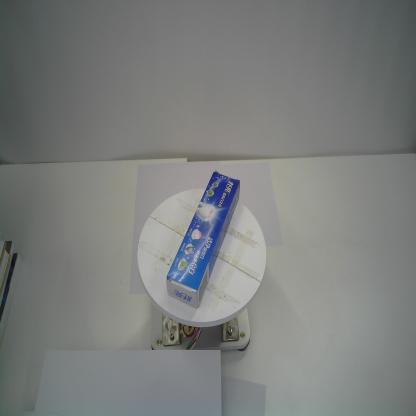Personal Hygiene: (164, 167, 241, 309)
